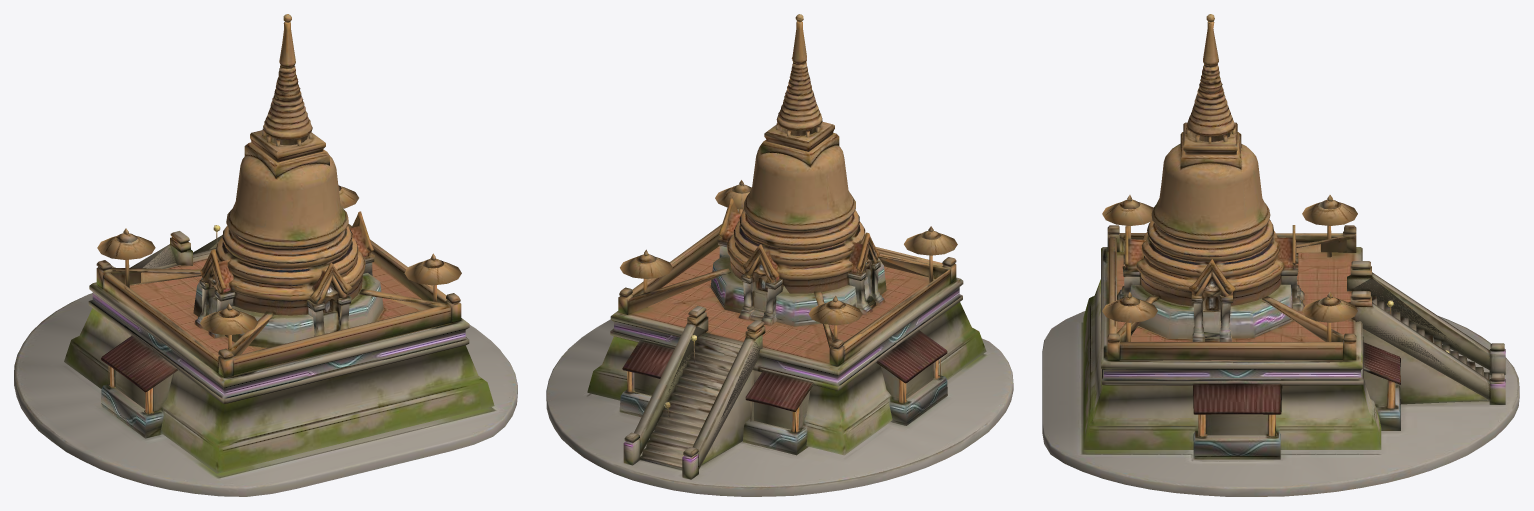
The model's file is lm_doi_suthep.glb.
3 views of the same model, side by side, from view 1: azimuth 30°, elevation 25°; view 2: azimuth 150°, elevation 25°; view 3: azimuth 270°, elevation 25° (orthographic). The views are drawn at different scales.
Visible parts, largest first — view 1: Body; view 2: Body; view 3: Body.
Boxes of the visible parts, bbox=[...] form: Body: bbox=[14, 14, 517, 496]; Body: bbox=[546, 14, 1013, 496]; Body: bbox=[1042, 14, 1519, 496].
Size of the model in its own units: 28.33 by 25 by 28.33.
Materials: 2 (2 with a texture image).
